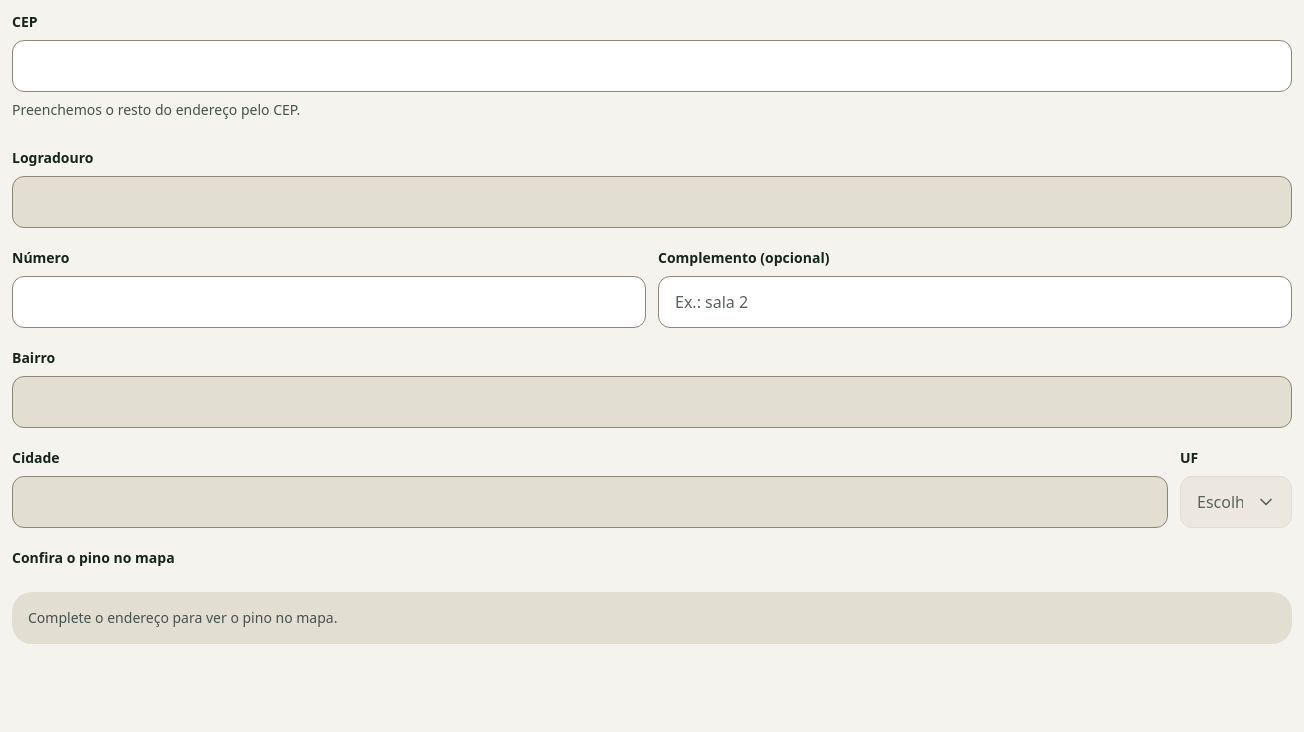
it: AddressFields › SIGN-17: um CEP válido preenche logradouro, bairro, cidade e UF
Type "04015012" into the field labelled "CEP" at (652, 66), box [12,40,1292,92]
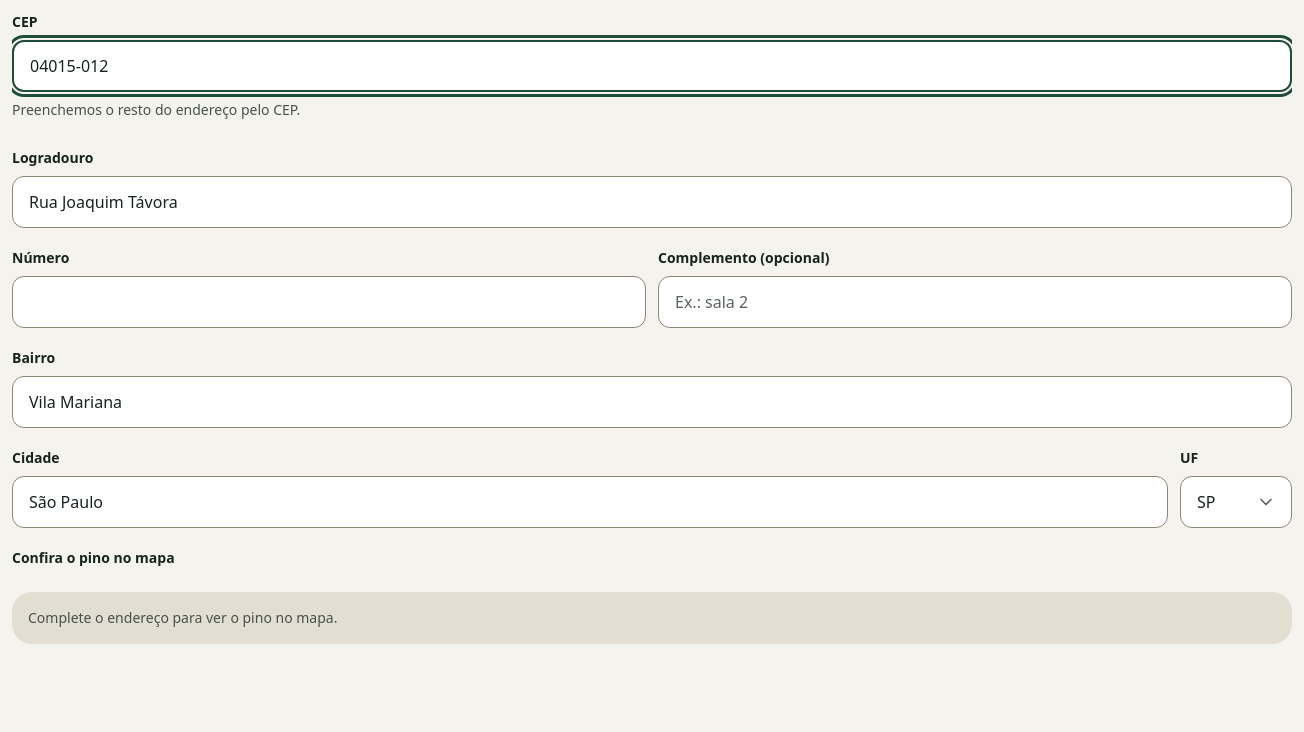
Expected: the field labelled "CEP" holds "04015-012", [12,40,1292,92]
Expected: the field labelled "Logradouro" holds "Rua Joaquim Távora", [12,176,1292,228]
Expected: the field labelled "Bairro" holds "Vila Mariana", [12,376,1292,428]
